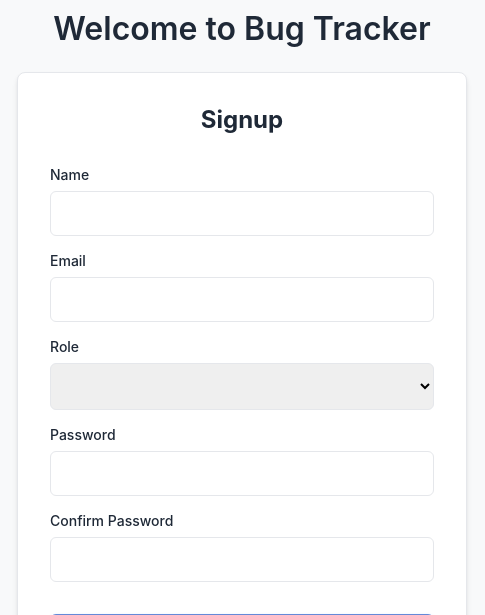
Test: Signup flow › shows confirm password required error
Focus the field with test id "confirm-password-input": {"x": 242, "y": 560} left=50, top=537, right=434, bottom=582
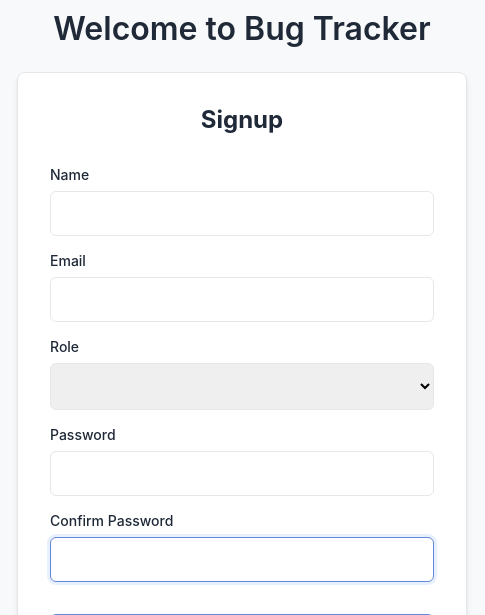
Leave the field with test id "confirm-password-input", box left=50, top=537, right=434, bottom=582
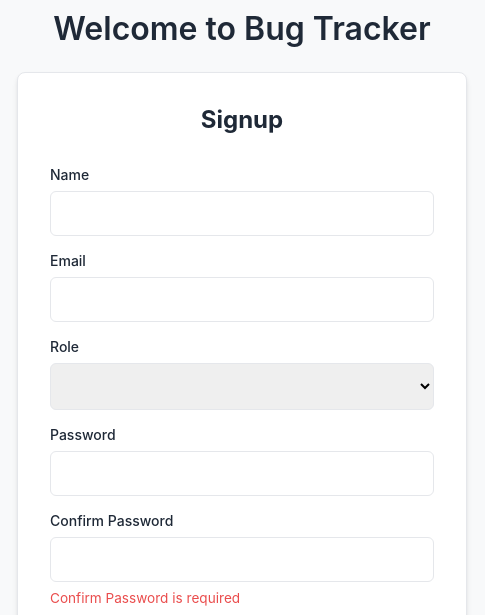
Check: the text "Confirm Password is required" is shown, box left=50, top=590, right=240, bottom=606
